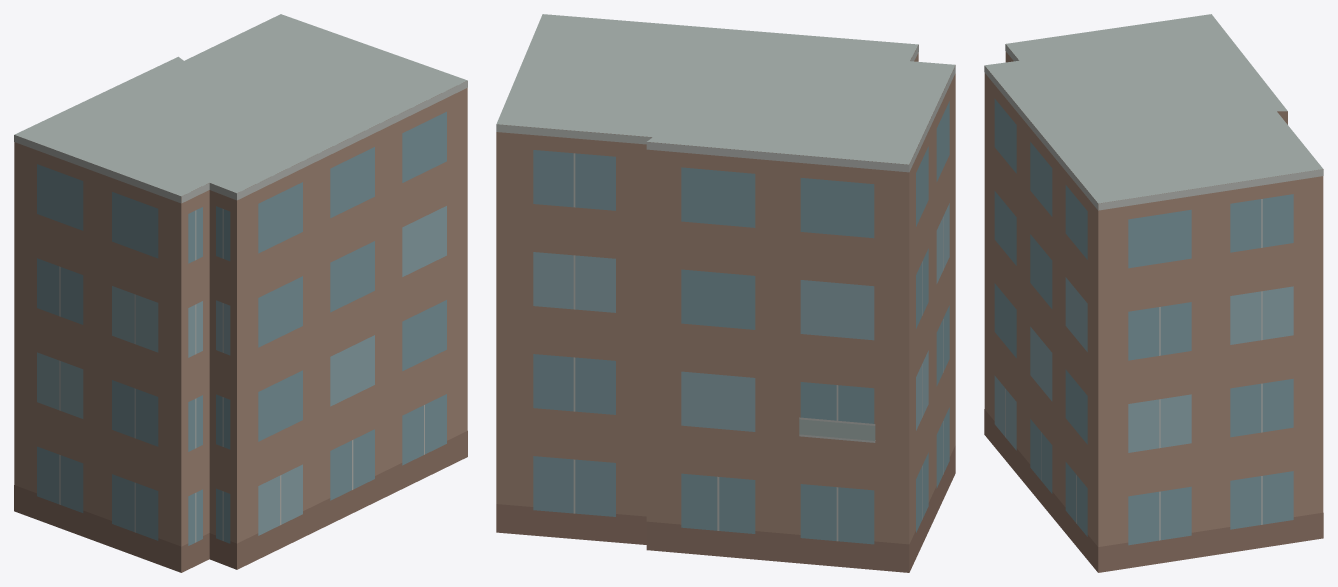
The model's file is survey-upis-32481976.glb.
3 views of the same model, side by side, from view 1: azimuth 30°, elevation 25°; view 2: azimuth 150°, elevation 25°; view 3: azimuth 270°, elevation 25° (orthographic). The views are drawn at different scales.
Parts seen in each view (by area): view 1: survey-upis-32481976.tmp; view 2: survey-upis-32481976.tmp; view 3: survey-upis-32481976.tmp.
Boxes of the visible parts, left/top/right/bottom form: survey-upis-32481976.tmp: left=14, top=14, right=467, bottom=572; survey-upis-32481976.tmp: left=496, top=14, right=955, bottom=572; survey-upis-32481976.tmp: left=984, top=14, right=1323, bottom=572.
Size of the model in its own units: 14.1 by 12.8 by 10.66.
